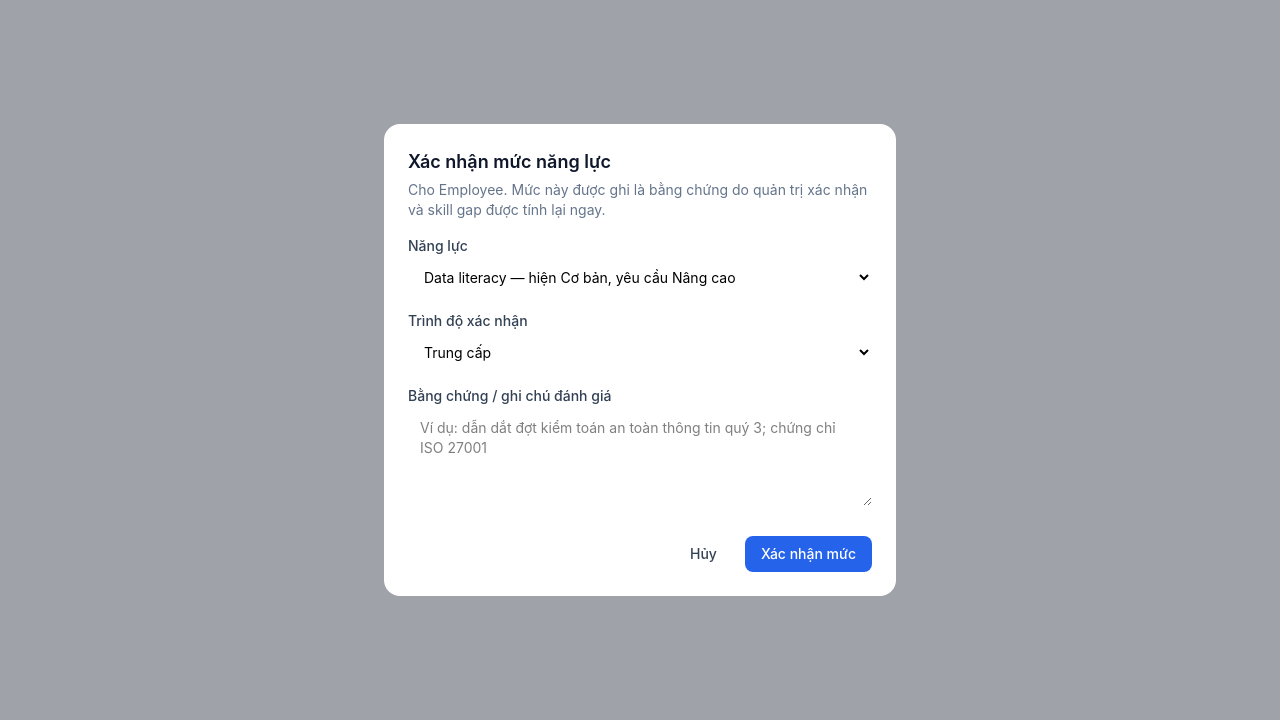
Test: ConfirmLevelDialog › requires a review note
Click the button "Xác nhận mức" at (808, 554), box [745,536,872,572]
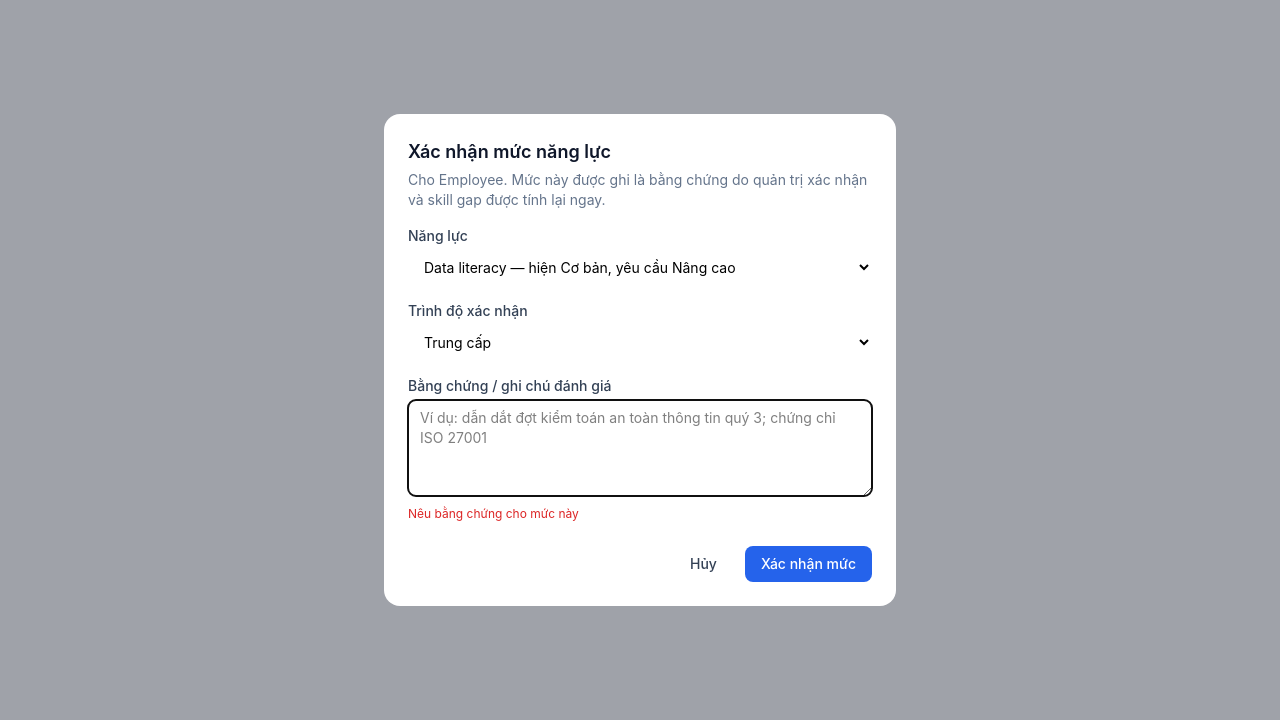
Expected: the text "Nêu bằng chứng cho mức này" is shown, [408,506,579,521]
